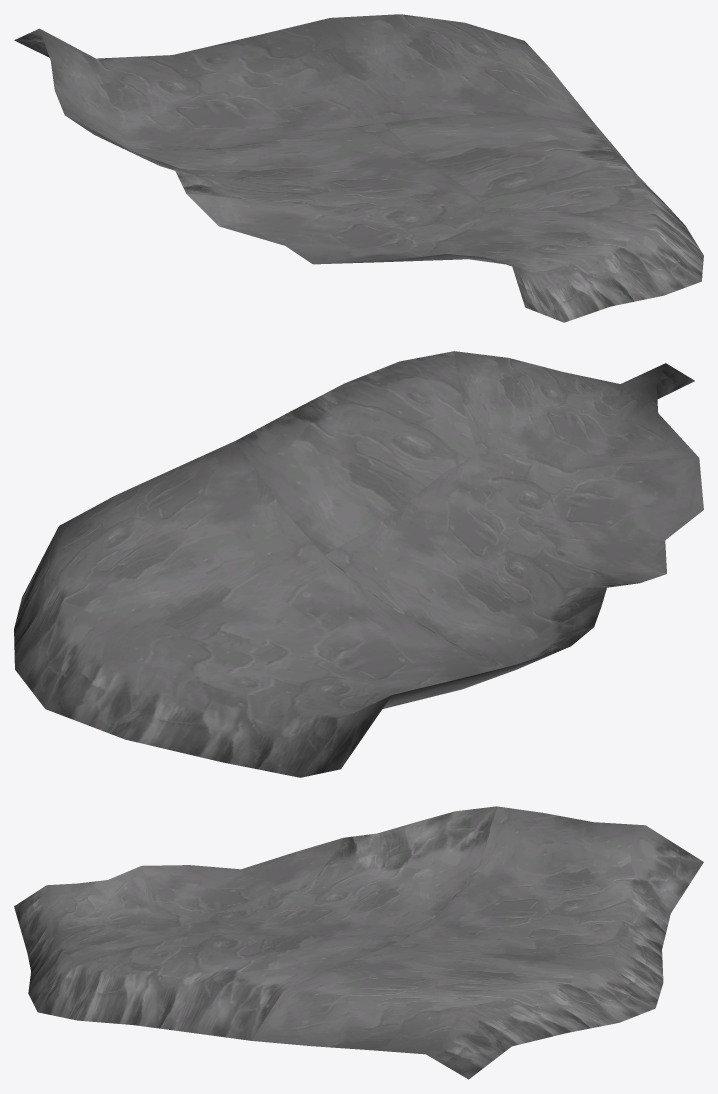
File: SWORDLIGHT20_PS-AREA03_131.fbx
The picture shows the model from 3 angles, top to bottom: view 1: azimuth 30°, elevation 25°; view 2: azimuth 150°, elevation 25°; view 3: azimuth 270°, elevation 25°; orthographic projection. The views are drawn at different scales.
Visible parts, largest first — view 1: SWORDLIGHT20_PS-AREA03_131; view 2: SWORDLIGHT20_PS-AREA03_131; view 3: SWORDLIGHT20_PS-AREA03_131.
Boxes of the visible parts, x1,y1,x2,y2 form: SWORDLIGHT20_PS-AREA03_131: [14, 14, 703, 322]; SWORDLIGHT20_PS-AREA03_131: [14, 351, 703, 777]; SWORDLIGHT20_PS-AREA03_131: [14, 806, 703, 1079].
Size of the model in its own units: 79978 by 17224 by 121110.
Materials: 4 (4 with a texture image).
